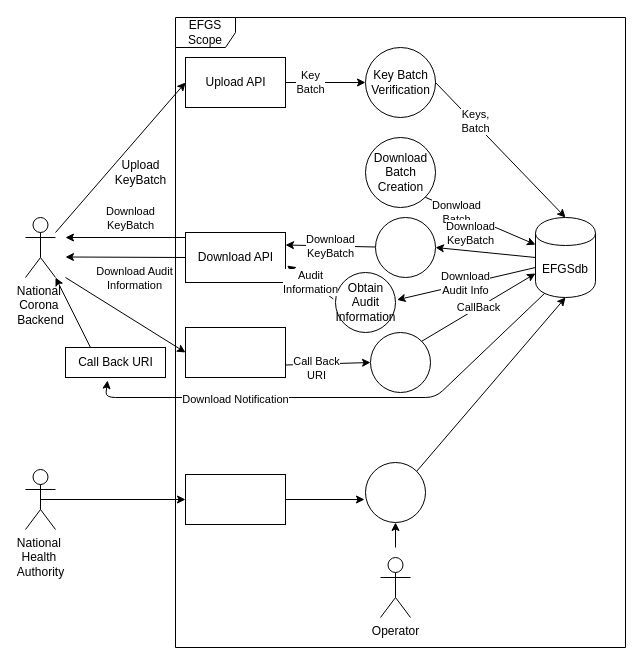
The diagram is 643 pixels wide and 665 high, and some of its shapes have lost their labels. Each missing label, with the centre of its shape:
"Call Back API" belongs at point (235, 352).
"Certificate Governance Process" belongs at point (235, 499).
"Certificate Management" belongs at point (395, 492).
"Obtain Batch" belongs at point (405, 247).
"Register Call Back" belongs at point (400, 362).
